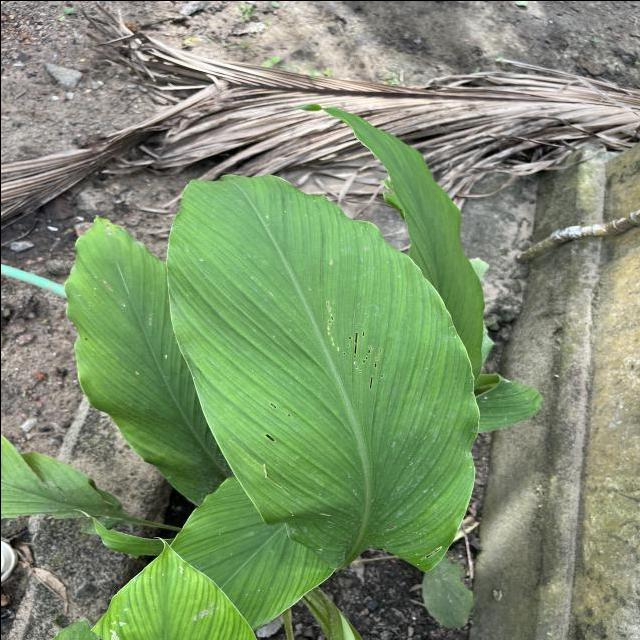Curcuma longa: (162, 170, 482, 574), (61, 210, 234, 506)
